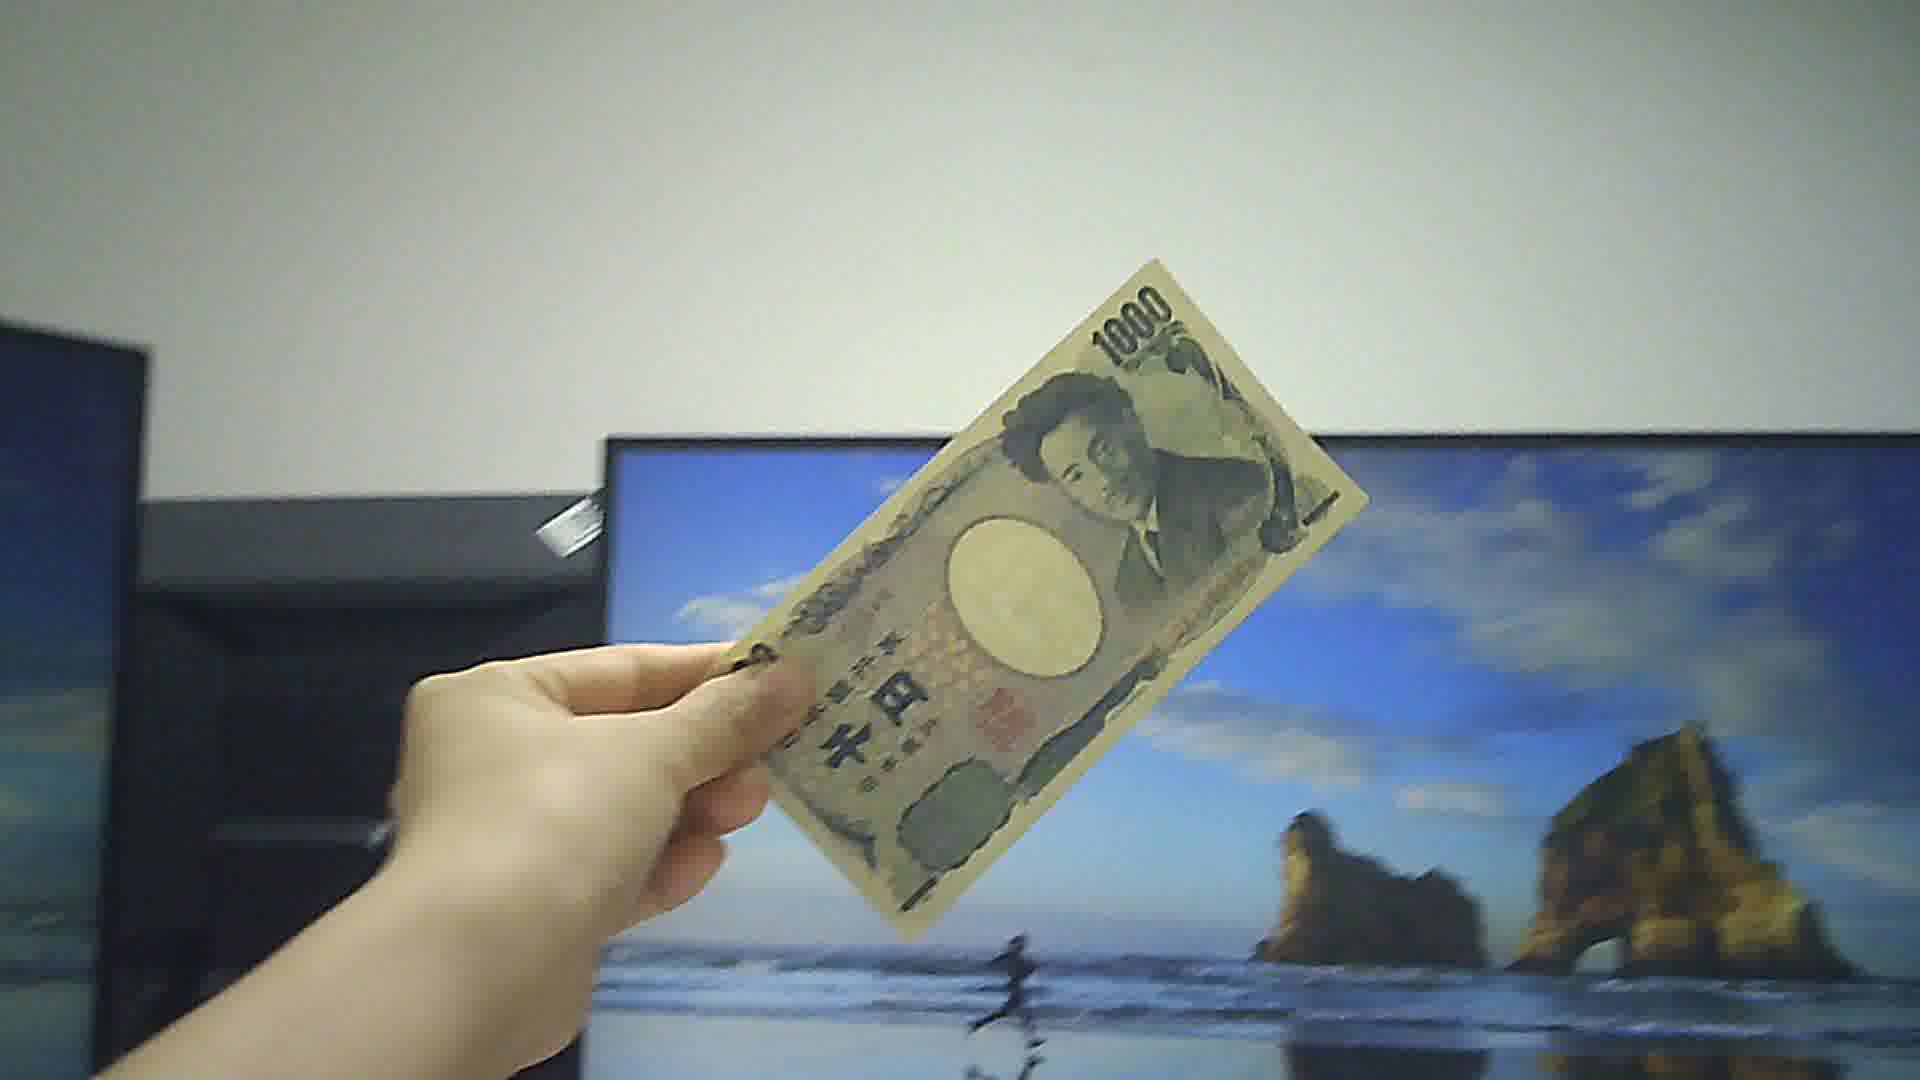1,000 Yen: (669, 229, 1396, 944)
